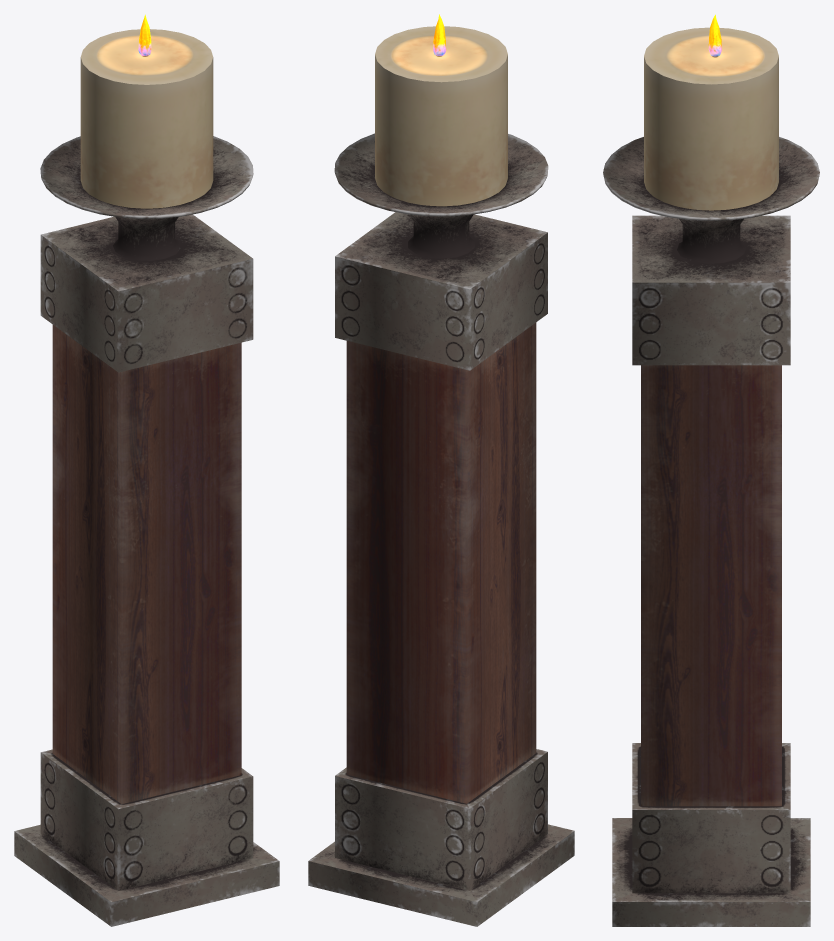
Rendered from obj_wooden_candlestick_4c5e18.glb.
The picture shows the model from 3 angles, left to right: view 1: azimuth 30°, elevation 25°; view 2: azimuth 150°, elevation 25°; view 3: azimuth 270°, elevation 25°; orthographic projection.
Parts seen in each view (by area): view 1: obj_wooden_candlestick_4c5e18; view 2: obj_wooden_candlestick_4c5e18; view 3: obj_wooden_candlestick_4c5e18.
Part boxes in pixels (<box>): obj_wooden_candlestick_4c5e18: <box>14,14,279,926</box>; obj_wooden_candlestick_4c5e18: <box>308,14,574,926</box>; obj_wooden_candlestick_4c5e18: <box>603,14,819,926</box>.
Size of the model in its own units: 0.0567 by 0.25 by 0.0564.
Materials: 1 (1 with a texture image).
